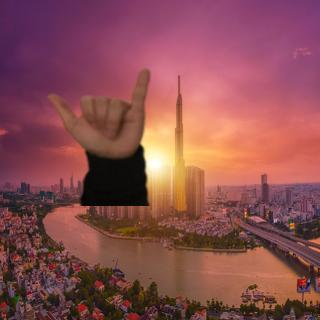HAVE: (42, 65, 160, 165)
